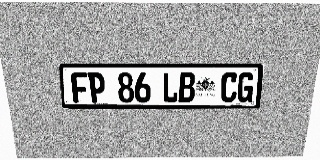6: (134, 72, 151, 103)
8: (117, 72, 134, 103)
B: (179, 72, 195, 103)
C: (220, 72, 238, 102)
F: (70, 72, 89, 103)
G: (236, 72, 255, 102)
L: (162, 72, 179, 103)
P: (88, 72, 106, 103)
